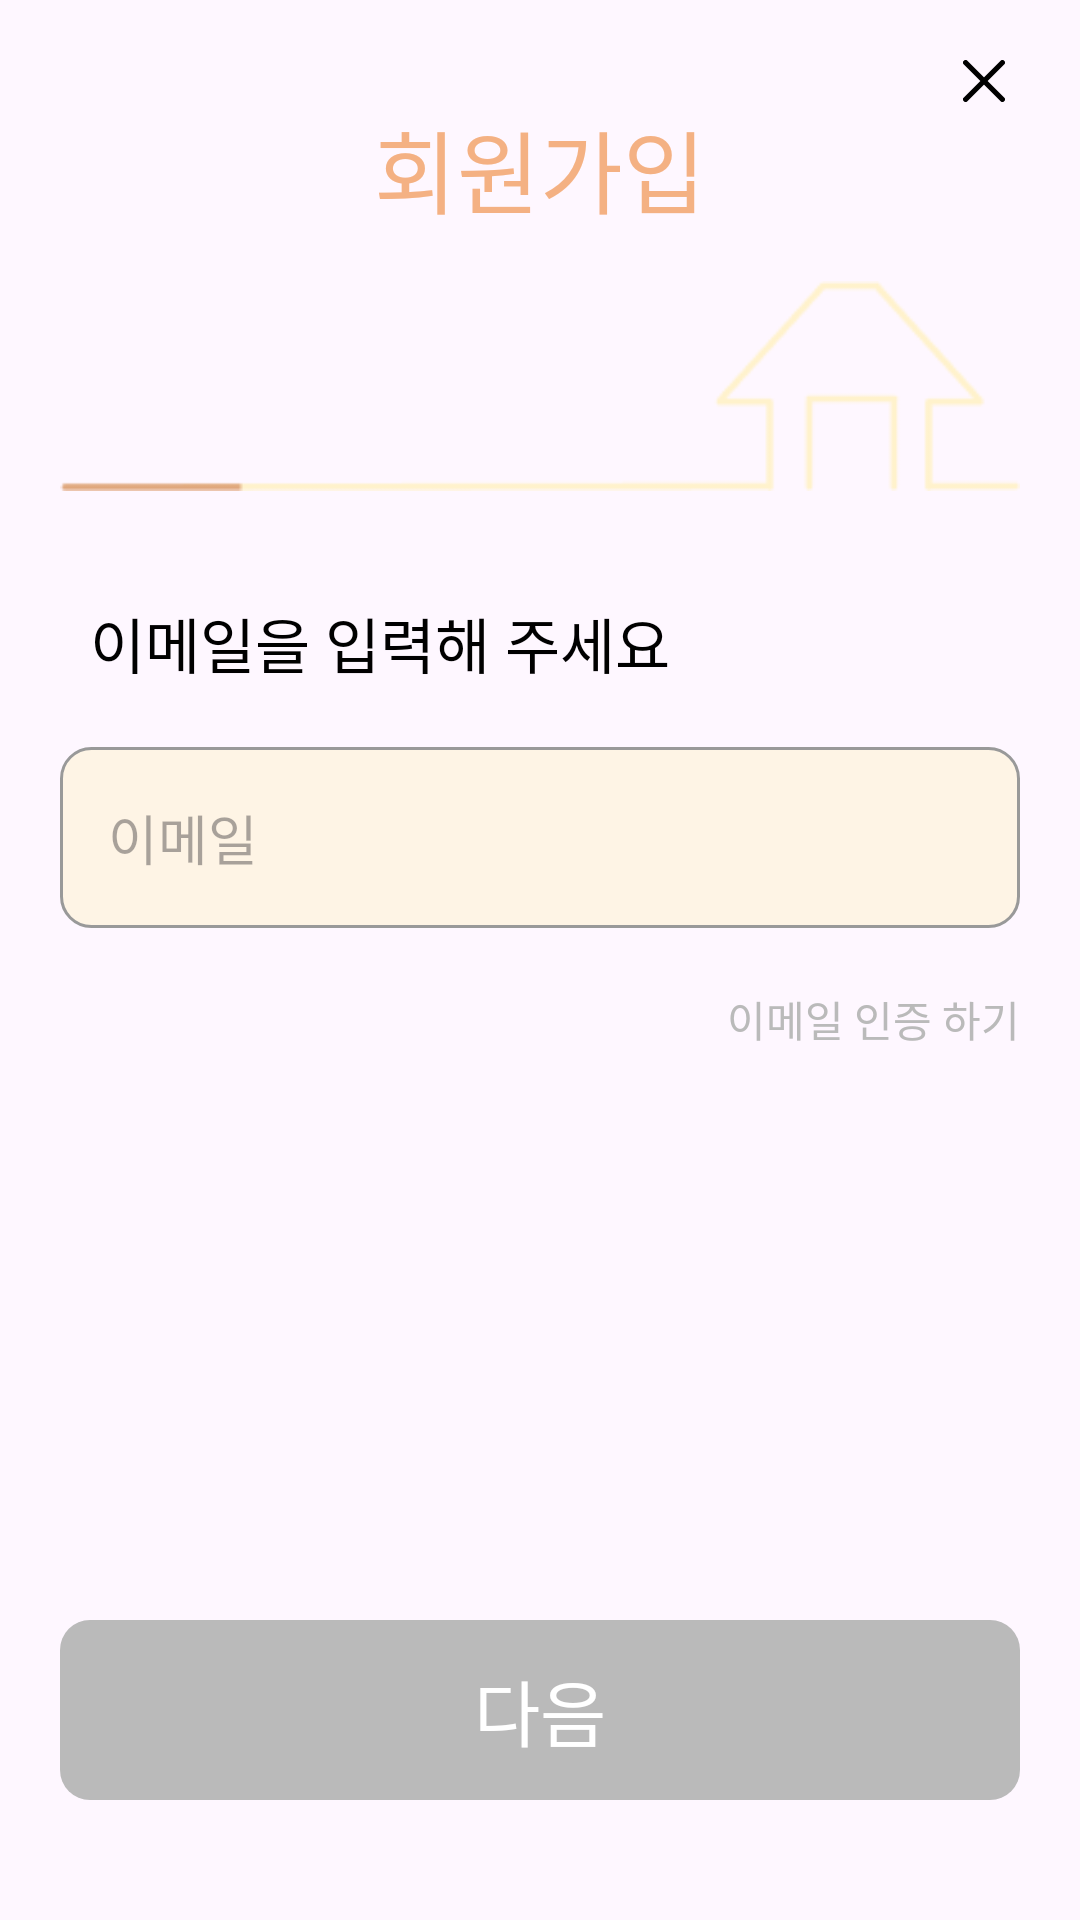

Icons on this 1080px×1920px Android screen, each with the point to tap as (x,y):
close: (984,81)
